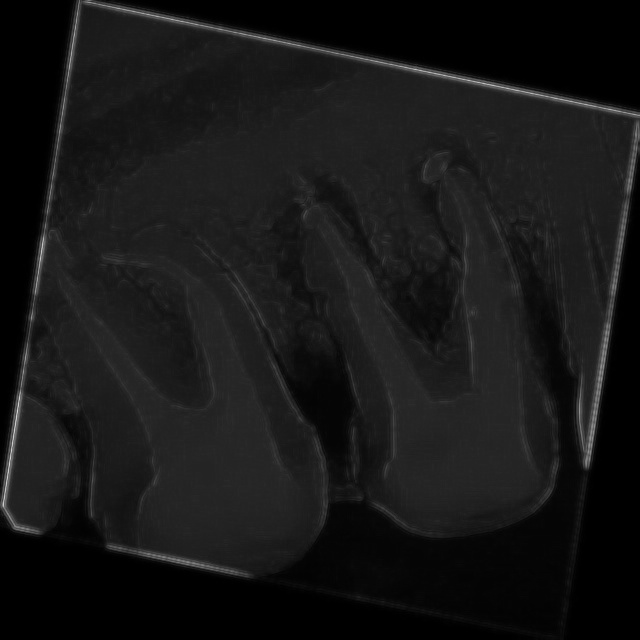Class 0- No endodontic treatment: (2, 176, 382, 574)
Class 1- complete endodontic treatment: (241, 124, 618, 556)
